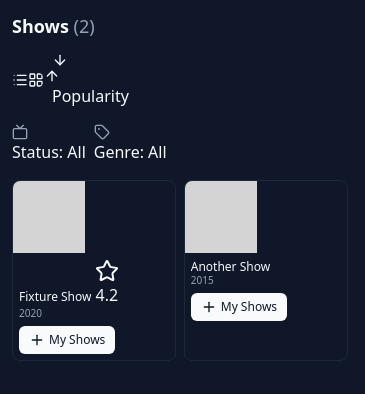
Scenario: SearchOverlay › adding a show from the grid of results (NEU-1192) › leaves the result in place and moves the control to its tracked state
This screenshot has width=365, height=394.
Click the button with aria-label "Add Fixture Show to My Shows" at (67, 340), box [19,326,115,354]
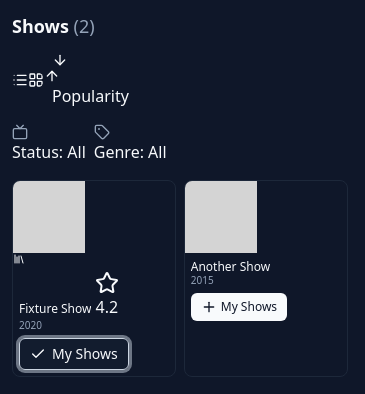
Expected: the heading "Fixture Show" is shown, [19,301,92,316]
Expected: the button with aria-label "Remove Fixture Show from My Shows" is shown, [19,338,129,370]
Expected: the number of pictures titled "In your My Shows" is 1, [13,253,25,265]
